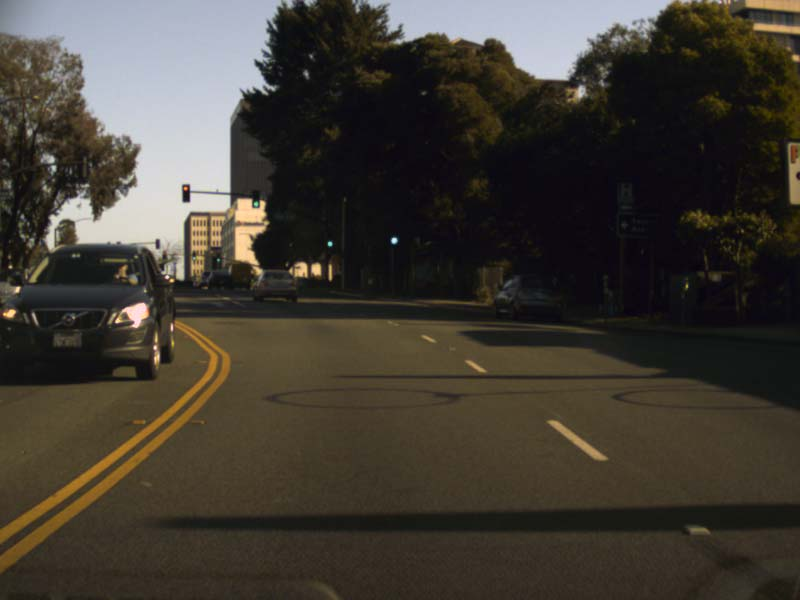Green: (389, 224, 399, 245), (325, 228, 333, 248), (252, 189, 259, 207), (216, 252, 220, 263), (192, 251, 195, 260)
Red: (182, 184, 190, 201), (162, 251, 165, 259)
